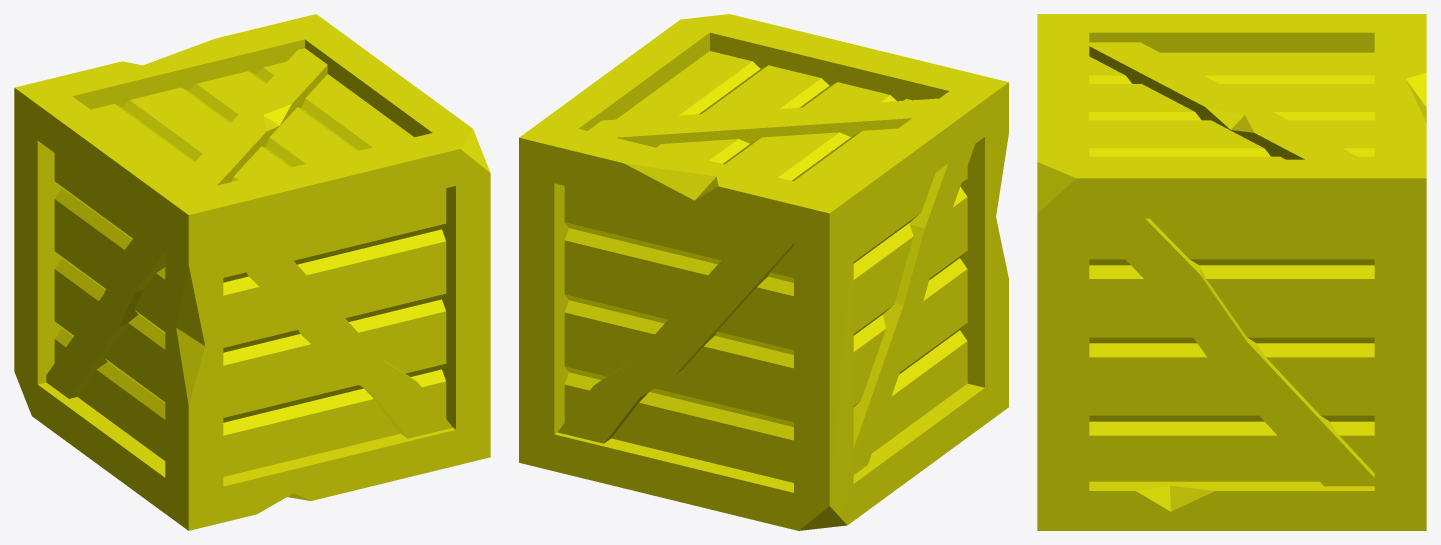
Rendered from SM_PolygonPrototype_Prop_Crate_03.glb.
3 views of the same model, side by side, from view 1: azimuth 30°, elevation 25°; view 2: azimuth 150°, elevation 25°; view 3: azimuth 270°, elevation 25° (orthographic). The views are drawn at different scales.
Visible parts, largest first — view 1: SM_PolygonPrototype_Prop_Crate_03; view 2: SM_PolygonPrototype_Prop_Crate_03; view 3: SM_PolygonPrototype_Prop_Crate_03.
Part boxes in pixels (left/top/right/bottom): SM_PolygonPrototype_Prop_Crate_03: left=14, top=14, right=490, bottom=530; SM_PolygonPrototype_Prop_Crate_03: left=519, top=14, right=1008, bottom=530; SM_PolygonPrototype_Prop_Crate_03: left=1037, top=14, right=1426, bottom=530.
Bounding box in the file's own units: 0.9965 × 0.9965 × 0.9965.
Materials: 1 (1 with a texture image).
